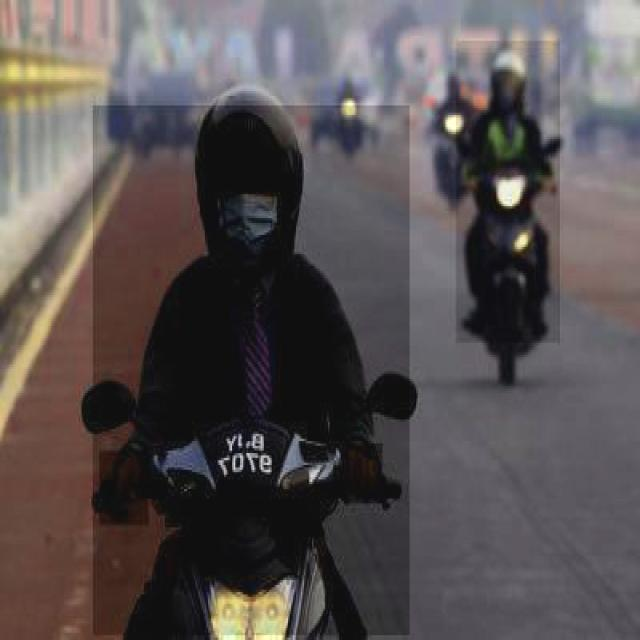face_mask: (218, 165, 278, 264)
hand_noglove: (98, 451, 148, 527), (342, 443, 382, 506)
head_helmet: (196, 78, 305, 166)
person: (91, 105, 410, 638), (454, 41, 560, 345)
